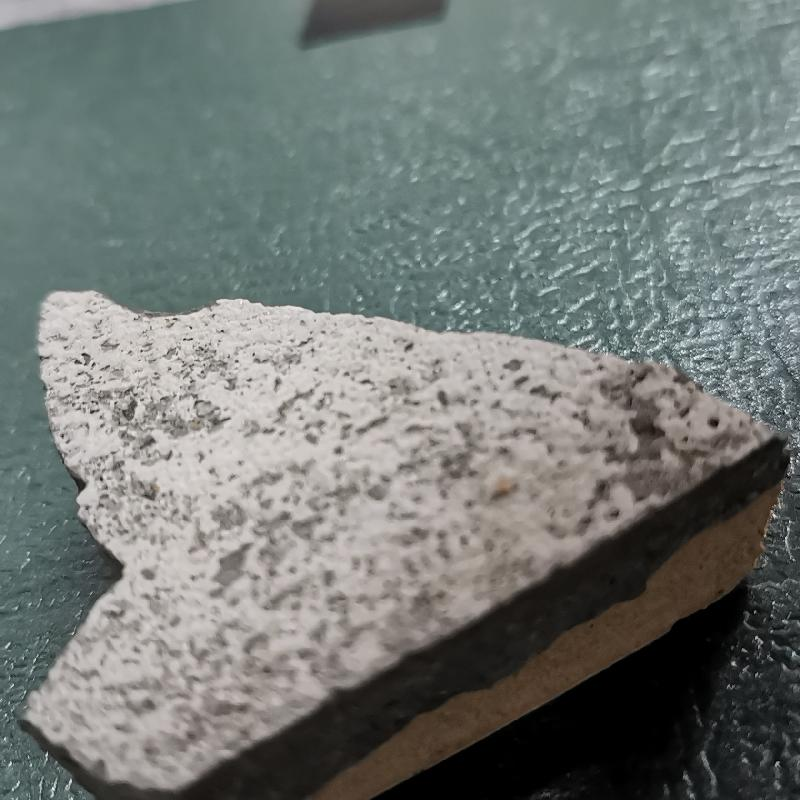tile: (21, 268, 795, 800)
